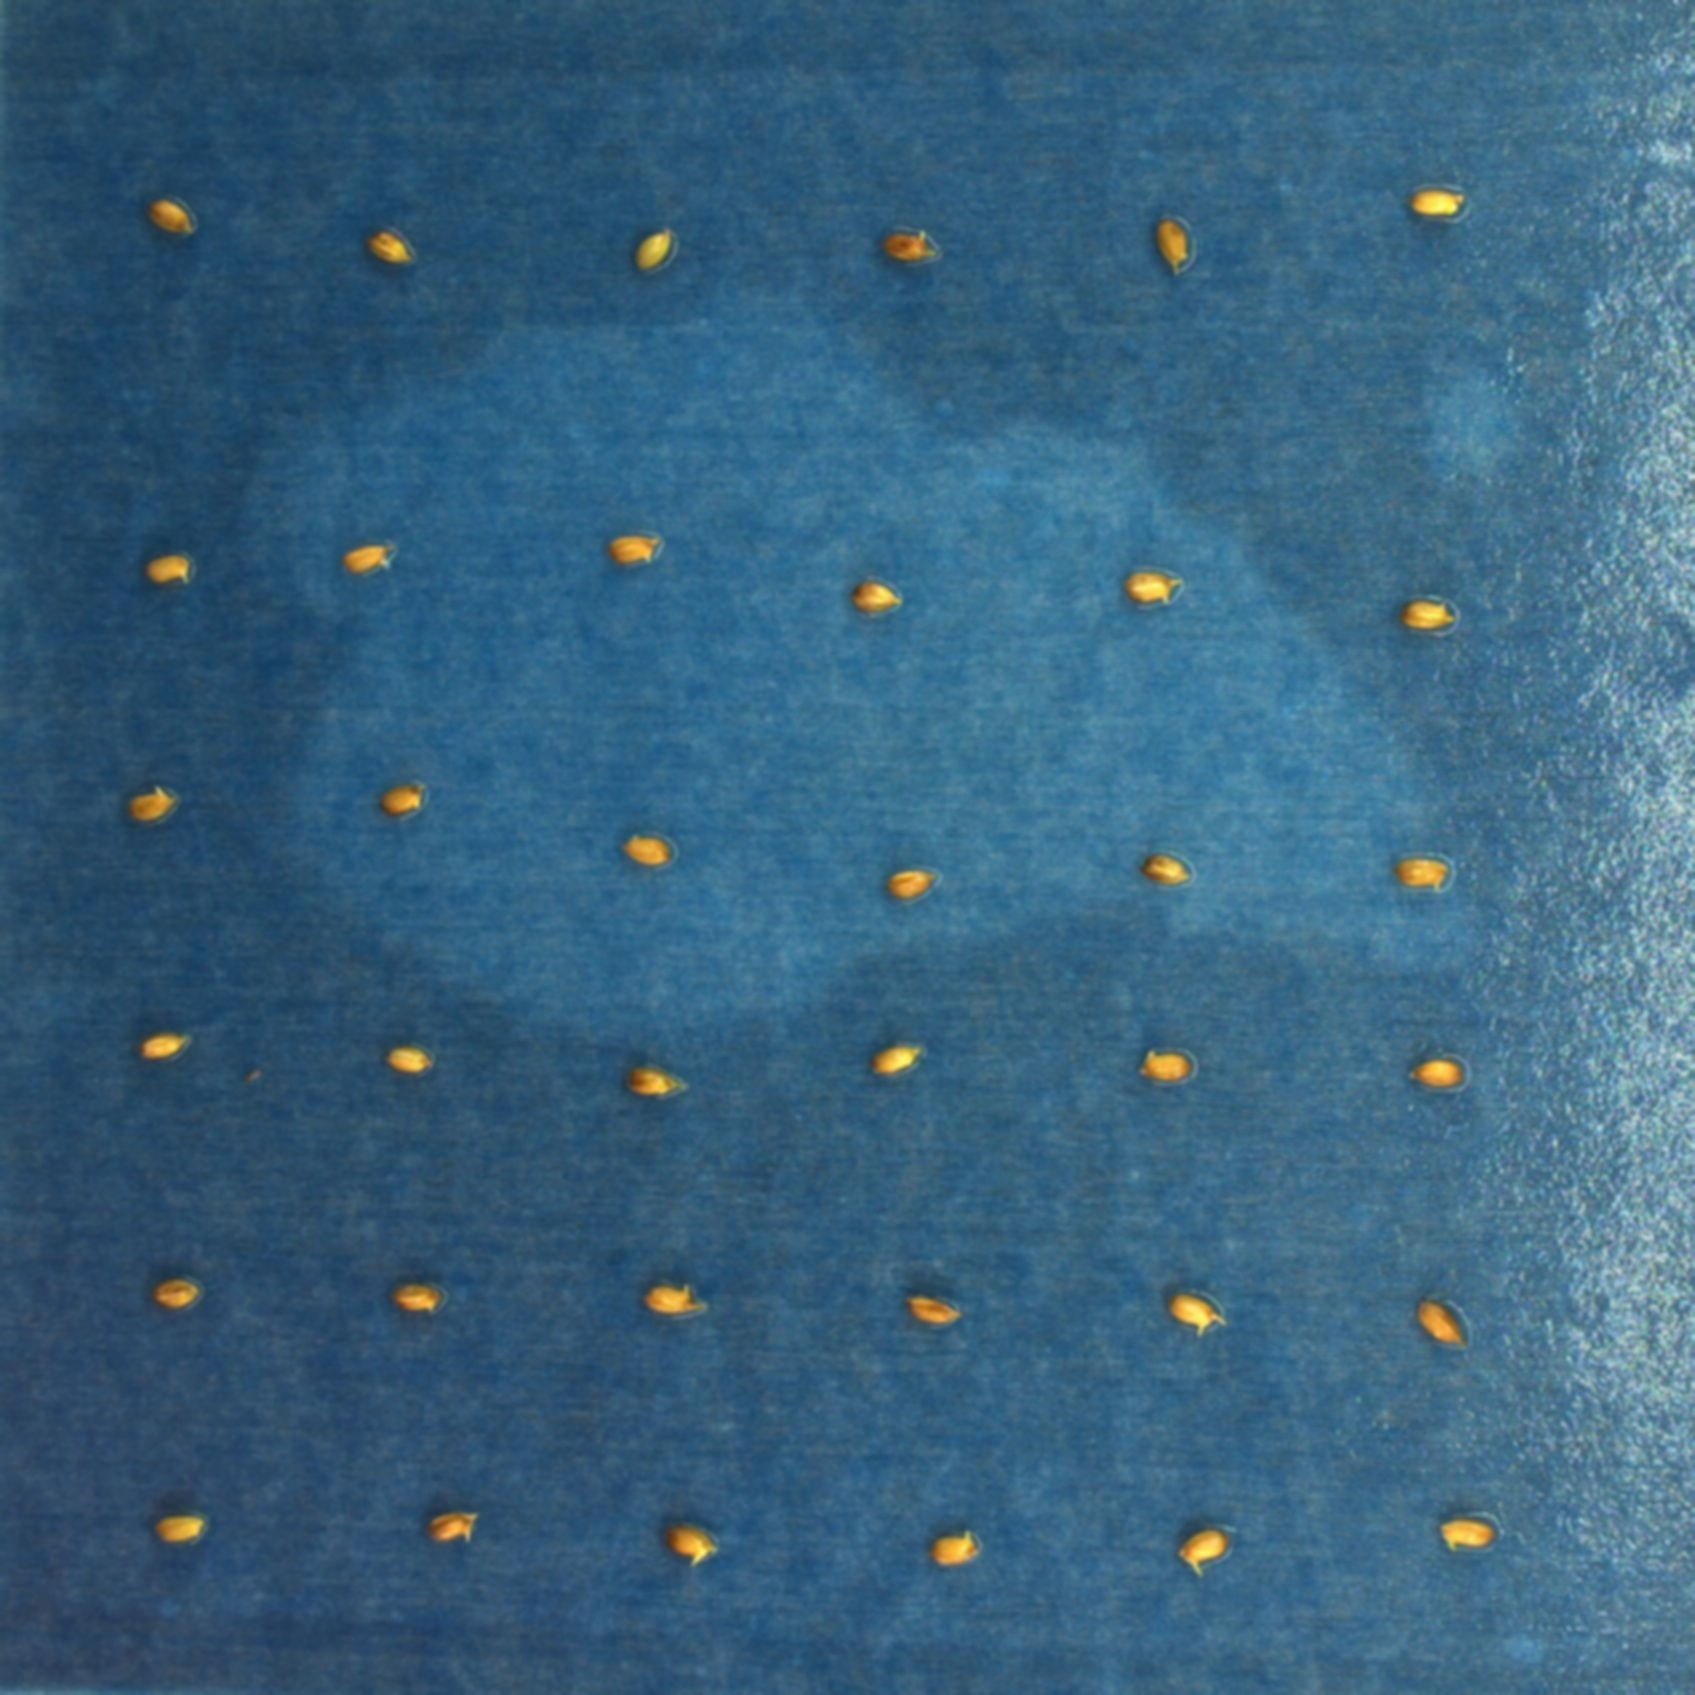not sprout: (626, 210, 680, 286), (868, 1032, 938, 1090), (658, 1516, 726, 1574), (1416, 1291, 1475, 1357), (1118, 563, 1189, 615), (1167, 1285, 1232, 1341), (1170, 1520, 1237, 1574), (1144, 213, 1198, 278), (882, 858, 945, 913), (1395, 847, 1458, 900), (1406, 180, 1473, 227), (120, 781, 182, 829), (927, 1521, 987, 1569), (624, 1062, 698, 1101), (644, 1284, 709, 1327), (1400, 596, 1461, 640), (149, 1507, 211, 1549), (880, 220, 938, 265), (140, 546, 199, 590), (149, 192, 202, 241), (906, 1288, 967, 1330), (151, 1271, 206, 1316), (424, 1503, 484, 1543), (844, 577, 906, 616), (1133, 1049, 1198, 1085), (612, 528, 661, 573), (393, 1277, 442, 1322), (1139, 851, 1197, 889), (365, 225, 418, 267), (385, 1043, 439, 1083), (1444, 1513, 1498, 1554), (622, 830, 671, 875), (379, 775, 427, 818), (341, 539, 397, 574), (1405, 1062, 1468, 1093), (138, 1032, 197, 1065)
